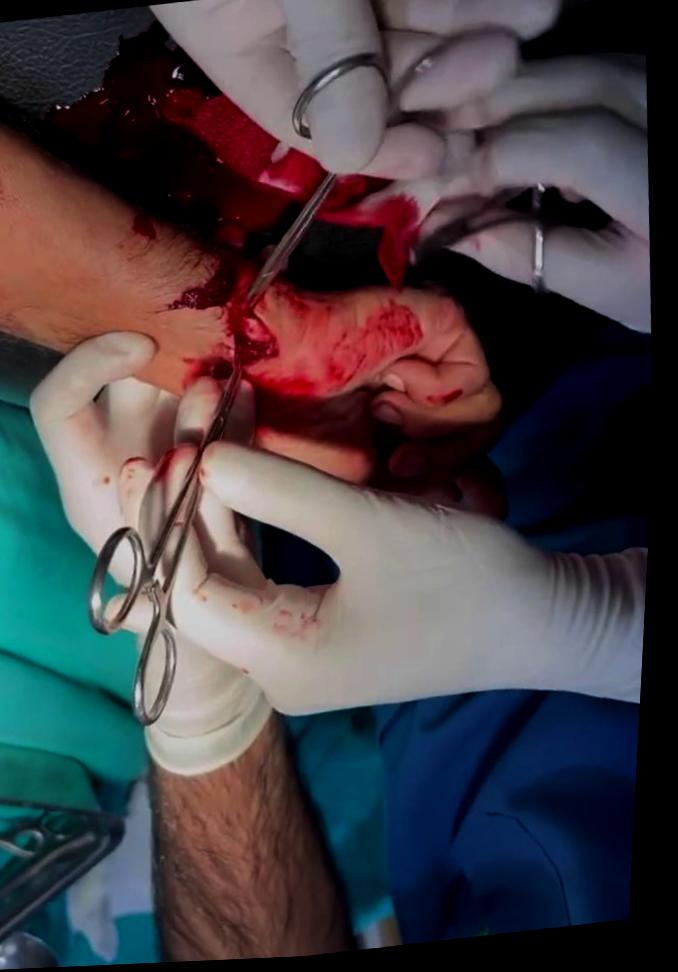Fire: (44, 32, 294, 243), (164, 86, 328, 204), (259, 300, 428, 412), (164, 254, 276, 359), (326, 189, 442, 290), (163, 86, 280, 181), (172, 251, 243, 311), (260, 144, 328, 203), (266, 285, 335, 327), (259, 370, 320, 414), (194, 356, 257, 394), (327, 178, 391, 215), (150, 435, 189, 493), (127, 204, 165, 256), (430, 383, 476, 412), (0, 328, 14, 358)
